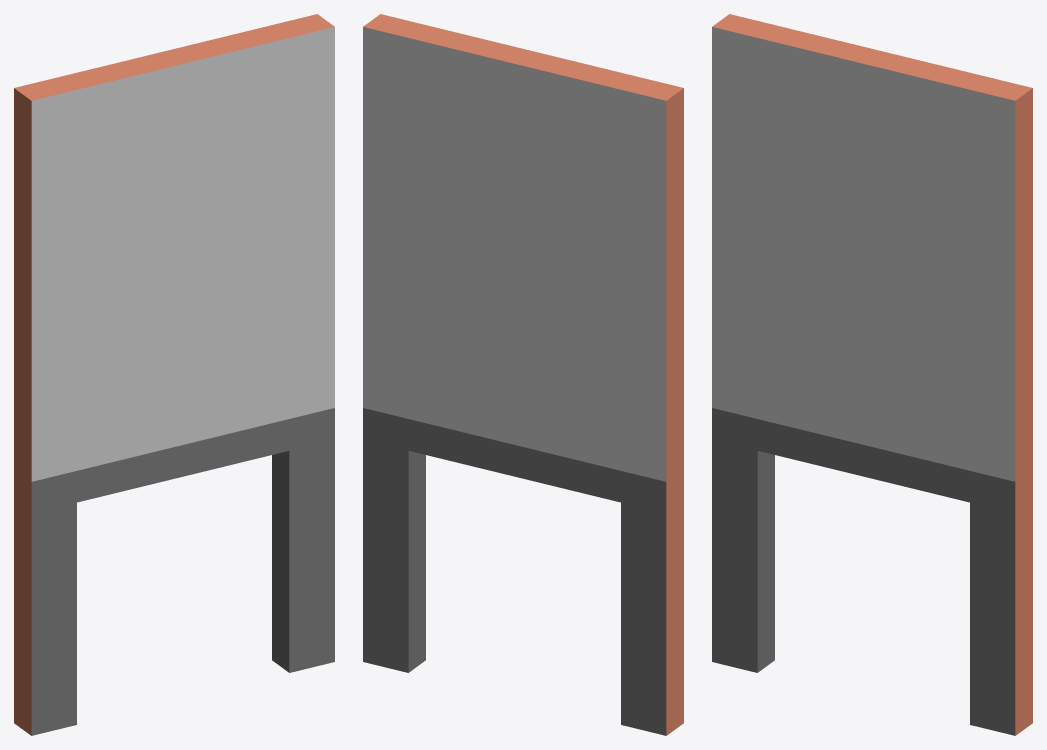
The model's file is Vent Wall Bottom.fbx.
The picture shows the model from 3 angles, left to right: view 1: azimuth 30°, elevation 25°; view 2: azimuth 150°, elevation 25°; view 3: azimuth 330°, elevation 25°; orthographic projection.
Parts seen in each view (by area): view 1: Vent Wall Bottom; view 2: Vent Wall Bottom; view 3: Vent Wall Bottom.
Boxes of the visible parts, x1,y1,x2,y2 form: Vent Wall Bottom: (14, 14, 334, 735); Vent Wall Bottom: (363, 14, 683, 735); Vent Wall Bottom: (712, 14, 1032, 735).
Bounding box in the file's own units: 100 × 200 × 10.
